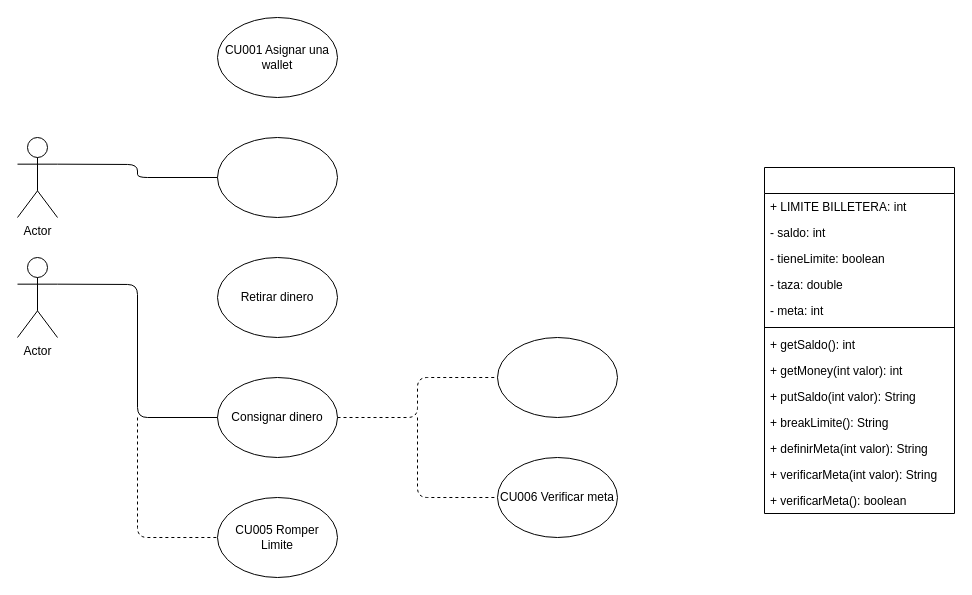
This 972x595 diagram has some shape labels left out. Here are the shapes that lost their labels. From the top down, the box of each, then its label:
(216, 136, 338, 218): Crear una wallet
(764, 166, 954, 514): Wallet
(496, 336, 618, 418): Verificar estado de cuenta
